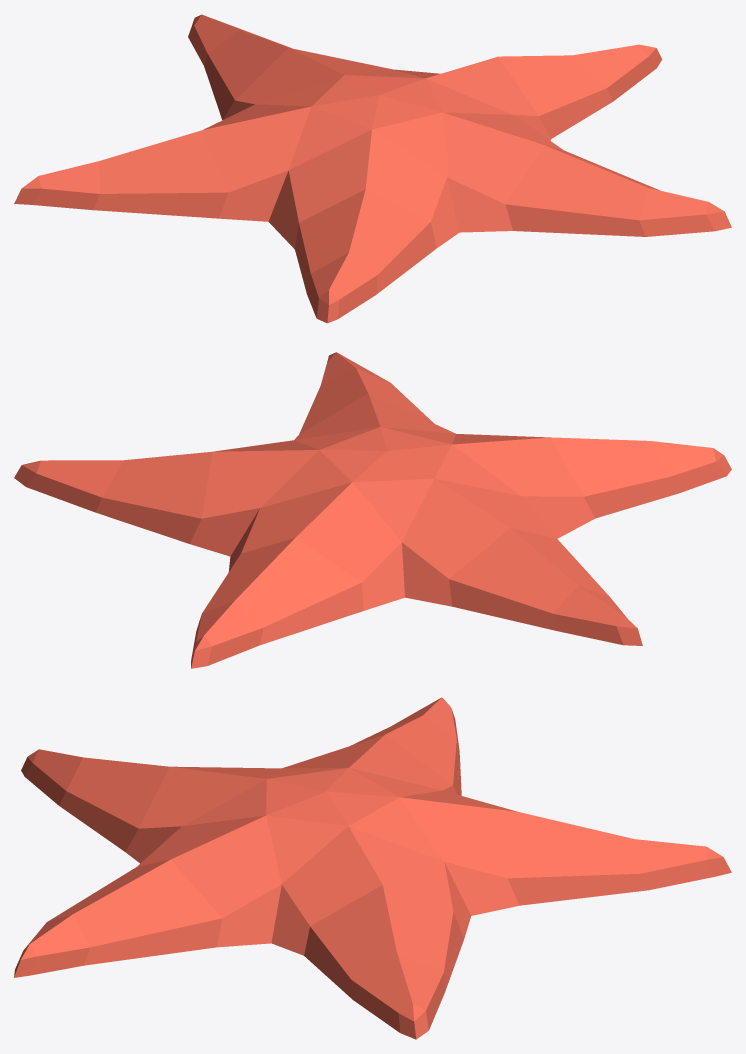
File: zone0-decor-nc02.glb
3 renders of one model, top to bottom at view 1: azimuth 30°, elevation 25°; view 2: azimuth 150°, elevation 25°; view 3: azimuth 270°, elevation 25°, orthographic. The views are drawn at different scales.
Visible parts, largest first — view 1: seastar-mature-b.001; view 2: seastar-mature-b.001; view 3: seastar-mature-b.001.
Boxes of the visible parts, <box> form: seastar-mature-b.001: <box>14,14,731,323</box>; seastar-mature-b.001: <box>14,352,731,668</box>; seastar-mature-b.001: <box>14,697,731,1039</box>.
Bounding box in the file's own units: 2.59 × 0.2984 × 2.39.
